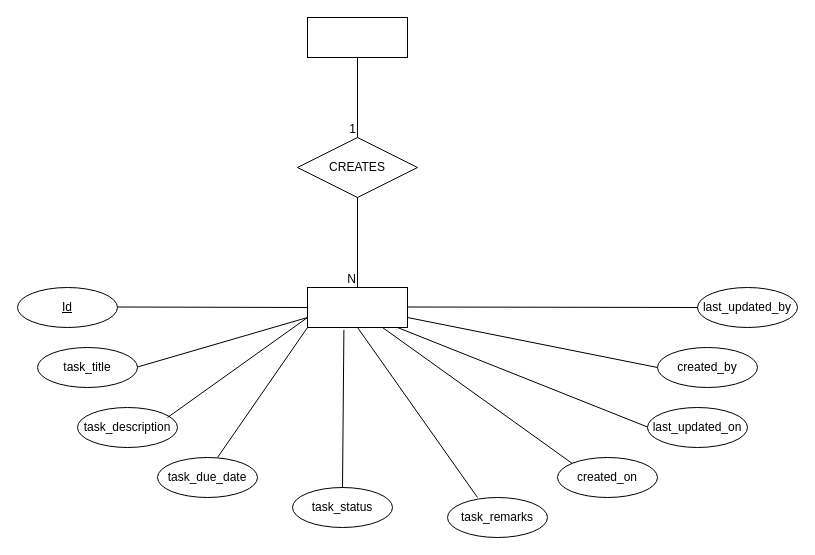
Image size: 815x555. Some labels were removed from this diagram. Each missing label, with the box of its shape:
TASK: (306, 286, 408, 328)
USER: (306, 16, 408, 58)
